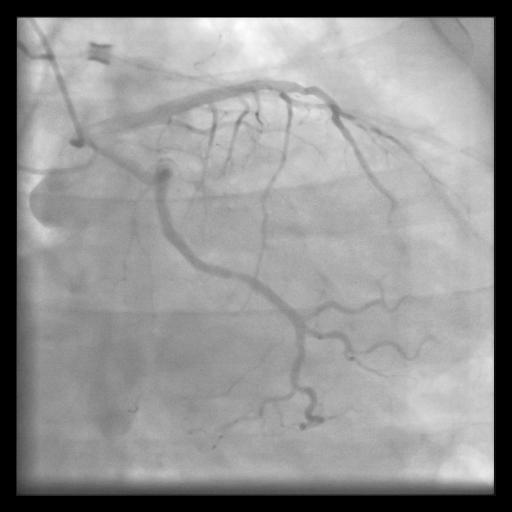Stenosis: (228, 266, 245, 281)
